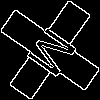M: (25, 25, 86, 85)
